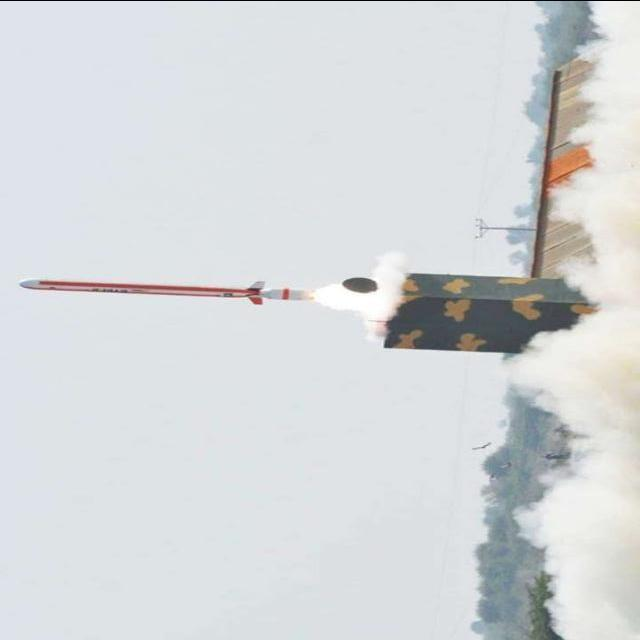Missile: (13, 275, 281, 308)
